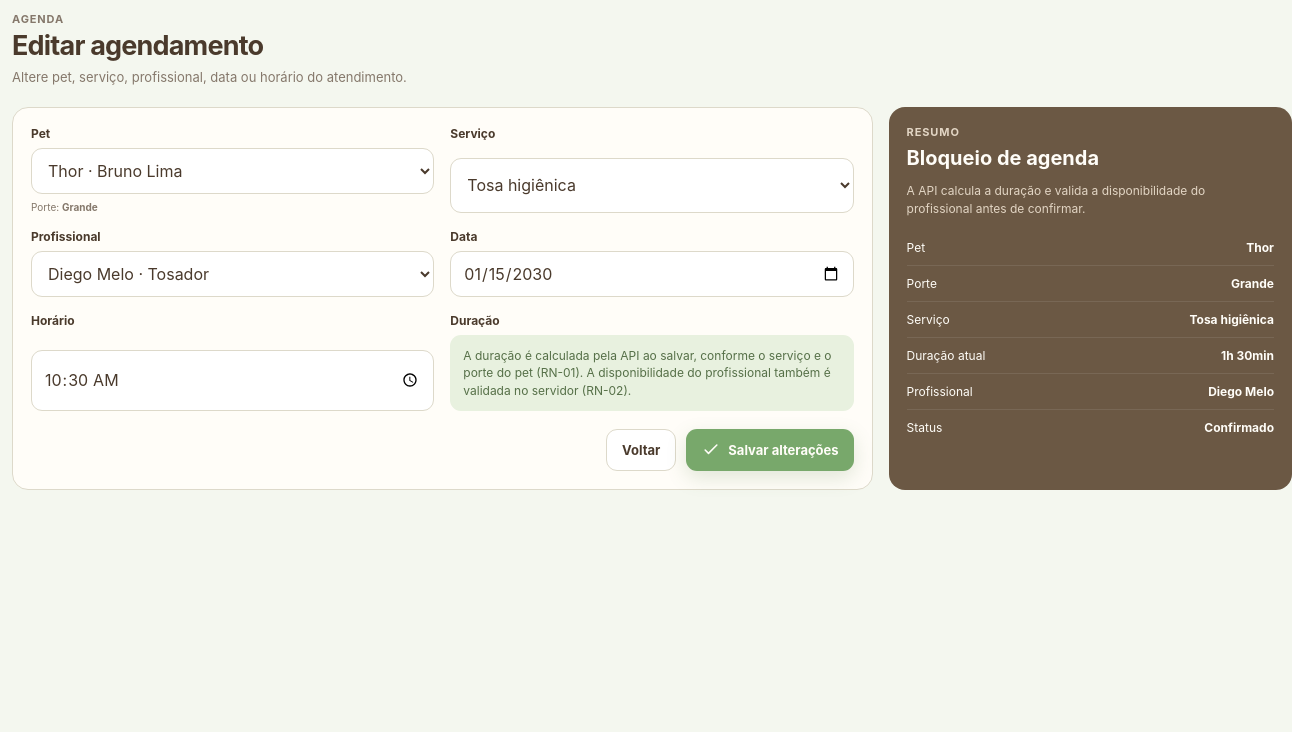
Test case: UI | AgendamentoForm — Modo edição › deve enviar a remarcação (sem status) para updateAppointmentAction
Select "Mel · Ana Souza" in the dropdown labelled "Pet" at (233, 171), box 31,148 -> 434,194
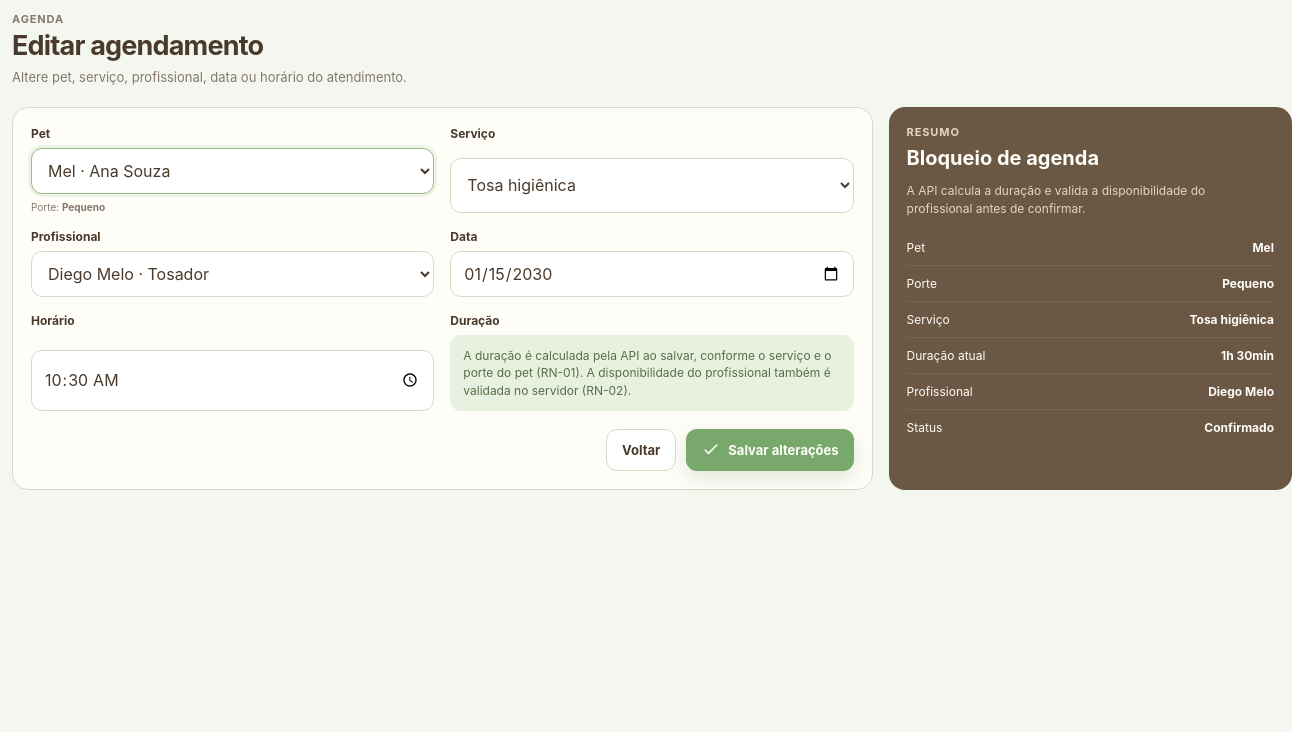
Replace the text in the time field labelled "Horário" with "14:00" at (233, 380), box 31,350 -> 434,411
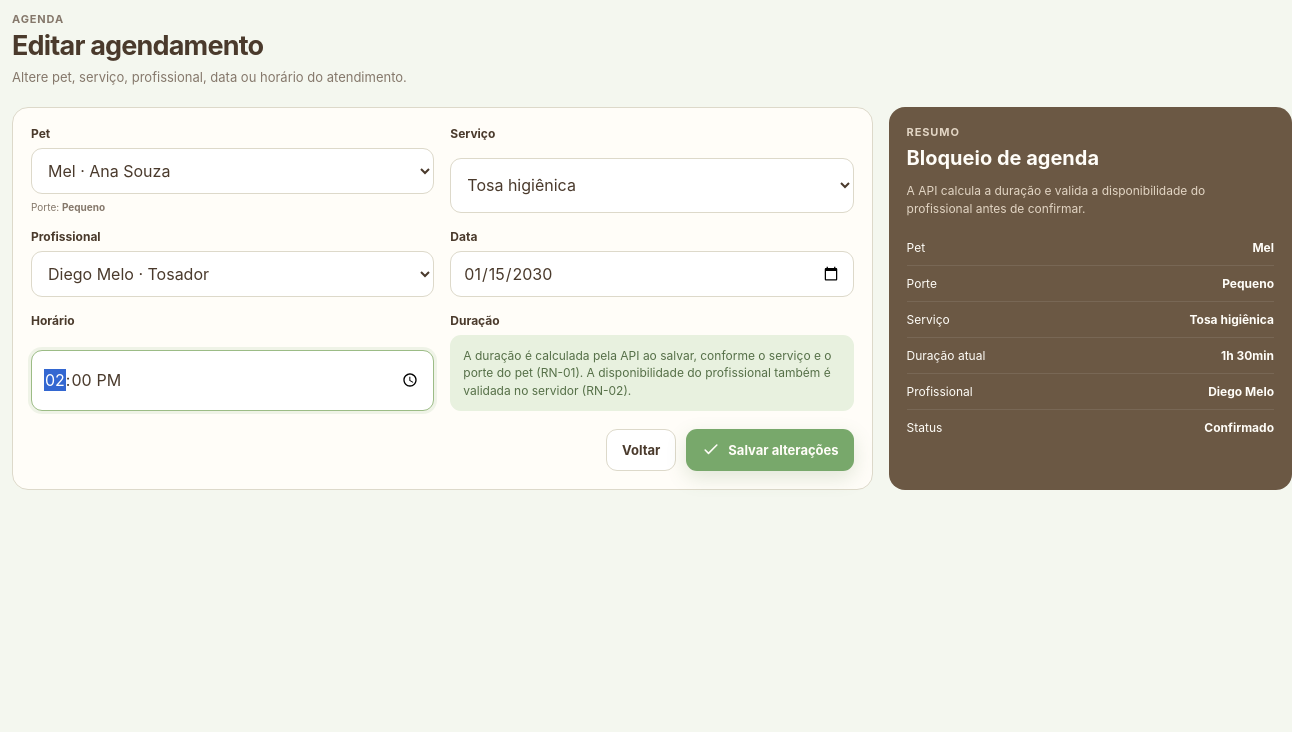
Click the button "Salvar alterações" at (770, 450), box 686,429 -> 854,471
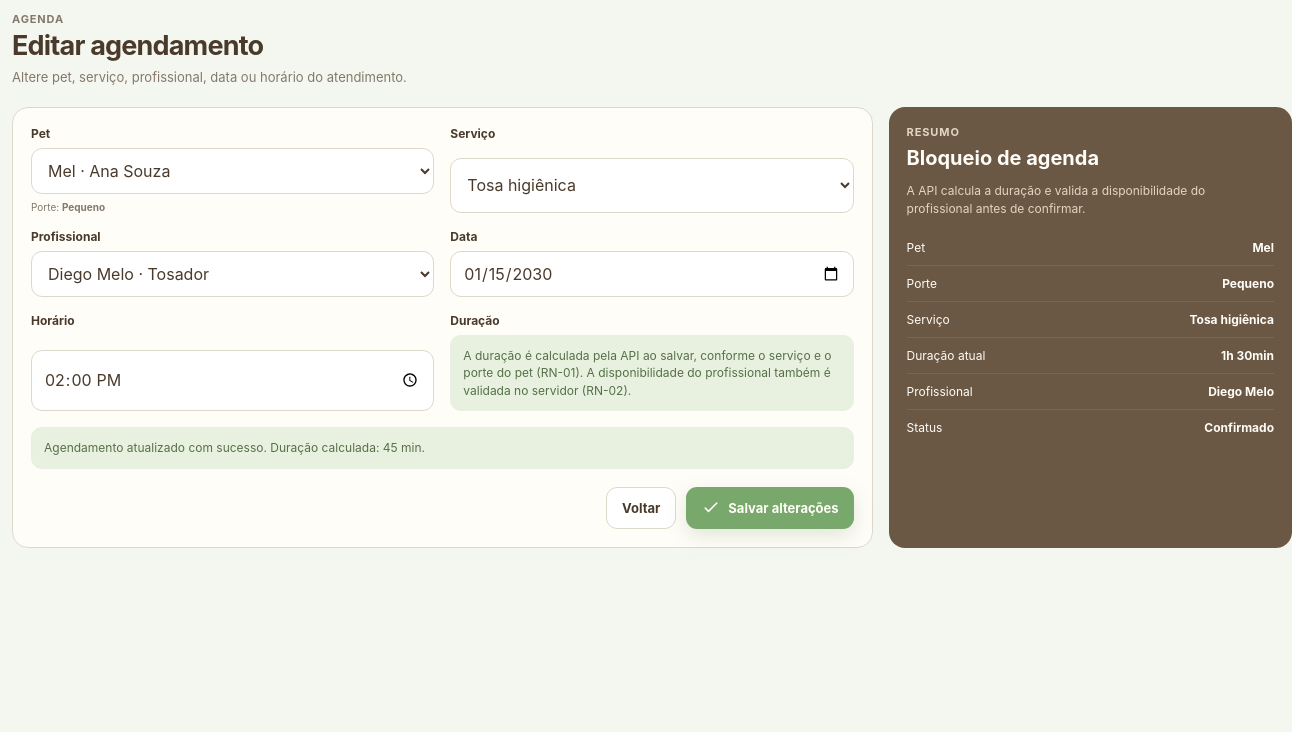
Expected: the text "Agendamento atualizado com sucesso. Duração calculada: 45 min." is shown, 31,427 -> 854,469
